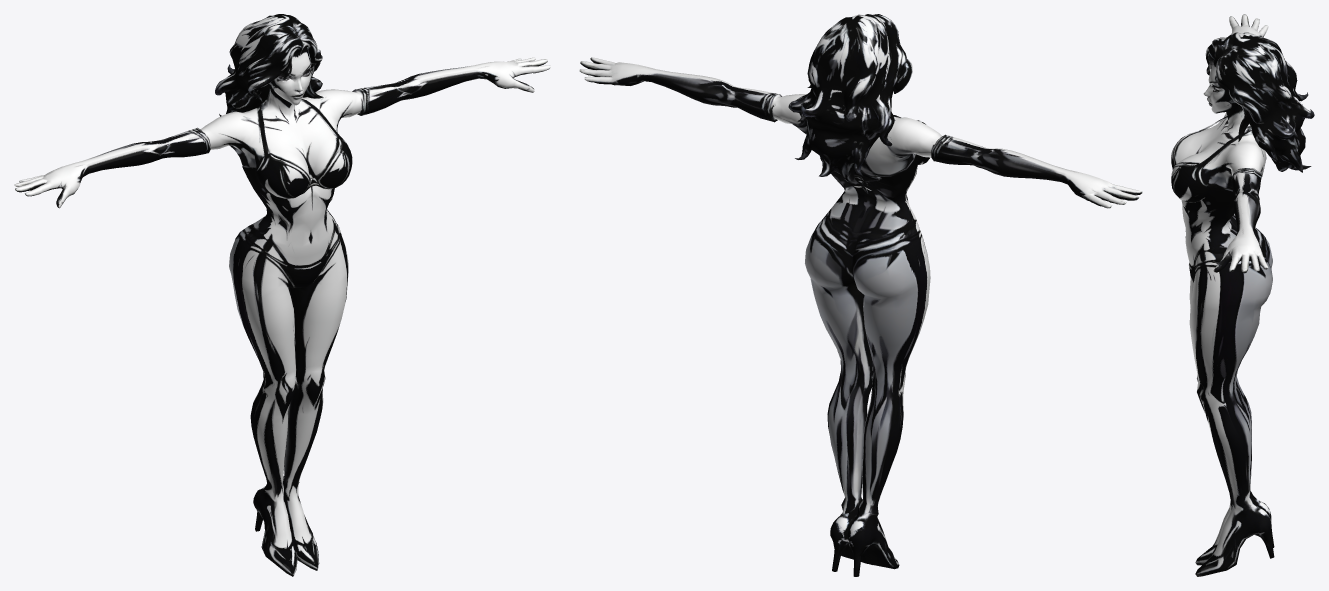
File: vampirezako3.fbx
The picture shows the model from 3 angles, left to right: view 1: azimuth 30°, elevation 25°; view 2: azimuth 150°, elevation 25°; view 3: azimuth 270°, elevation 25°; orthographic projection. The views are drawn at different scales.
Parts seen in each view (by area): view 1: tripo_35963ef4_61ae_4b90_af86_de12e4d93dbd; view 2: tripo_35963ef4_61ae_4b90_af86_de12e4d93dbd; view 3: tripo_35963ef4_61ae_4b90_af86_de12e4d93dbd.
Boxes of the visible parts, bbox=[...] form: tripo_35963ef4_61ae_4b90_af86_de12e4d93dbd: bbox=[14, 14, 550, 576]; tripo_35963ef4_61ae_4b90_af86_de12e4d93dbd: bbox=[579, 14, 1142, 576]; tripo_35963ef4_61ae_4b90_af86_de12e4d93dbd: bbox=[1171, 14, 1314, 576].
Bounding box in the file's own units: 0.9995 × 0.9692 × 0.2358.
Materials: 1 (1 with a texture image).
